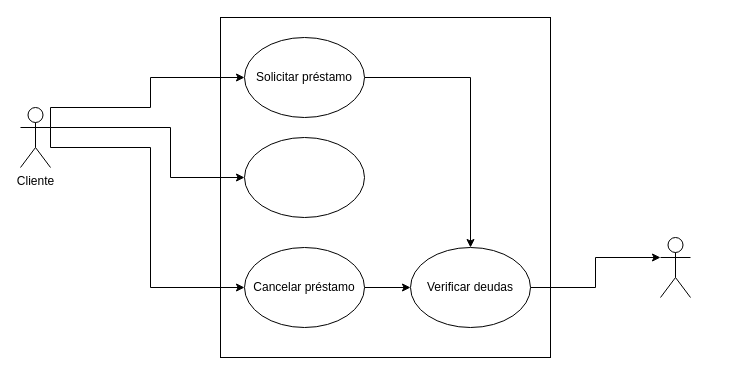
This 742x375 diagram has some shape labels left out. Each missing label, with the centre of its shape:
Adelantar cuotas: the point at 304,177
Servidor del Veraz: the point at 675,267
